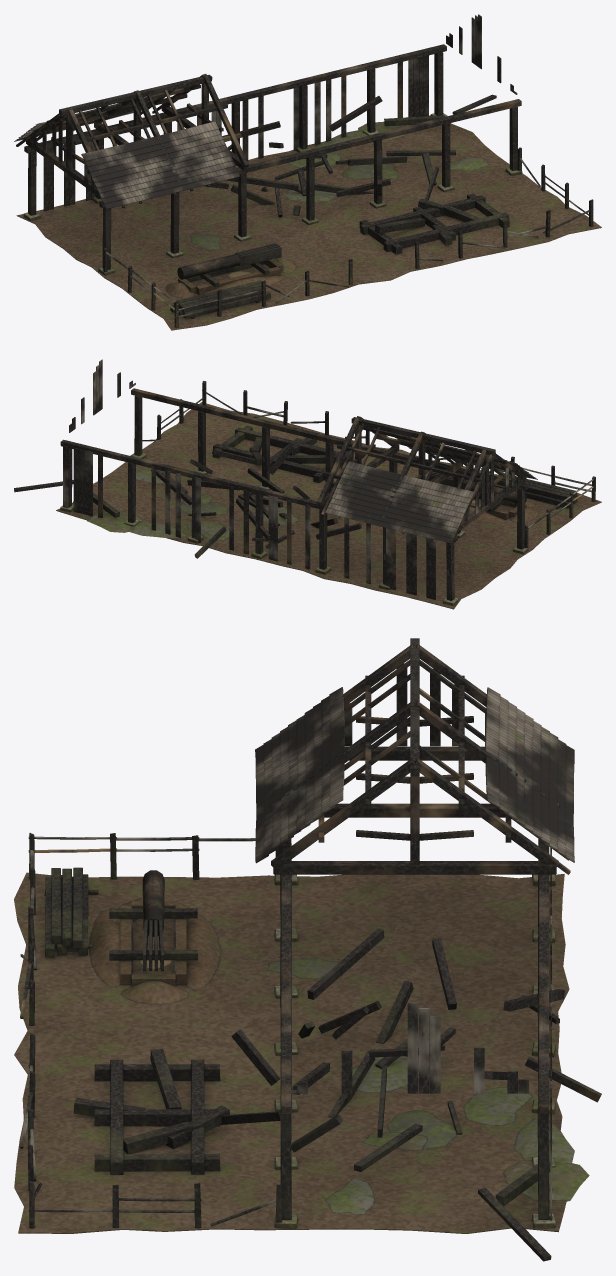
Rendered from siege_workshop_ruin.glb.
3 renders of one model, top to bottom at view 1: azimuth 30°, elevation 25°; view 2: azimuth 150°, elevation 25°; view 3: azimuth 270°, elevation 25°, orthographic. The views are drawn at different scales.
Visible parts, largest first — view 1: siege_workshop_ruin_LOD0; view 2: siege_workshop_ruin_LOD0; view 3: siege_workshop_ruin_LOD0.
Boxes of the visible parts, <box> form: siege_workshop_ruin_LOD0: <box>14,14,601,330</box>; siege_workshop_ruin_LOD0: <box>14,359,601,609</box>; siege_workshop_ruin_LOD0: <box>14,638,601,1261</box>.
Size of what is drawn, in the model's own units: 25.7 by 7.69 by 15.97.
1 material, 1 textured.
